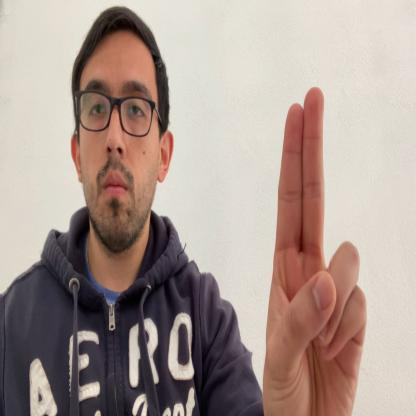U: (262, 86, 367, 415)
